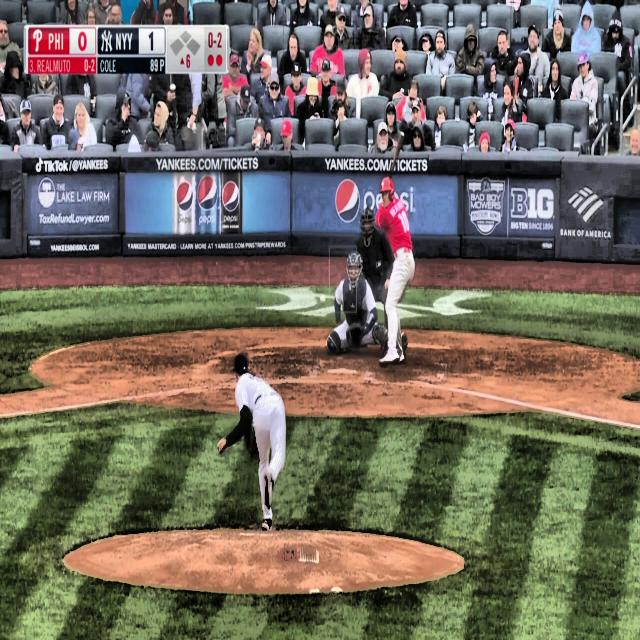baseball: (320, 294, 325, 303)
